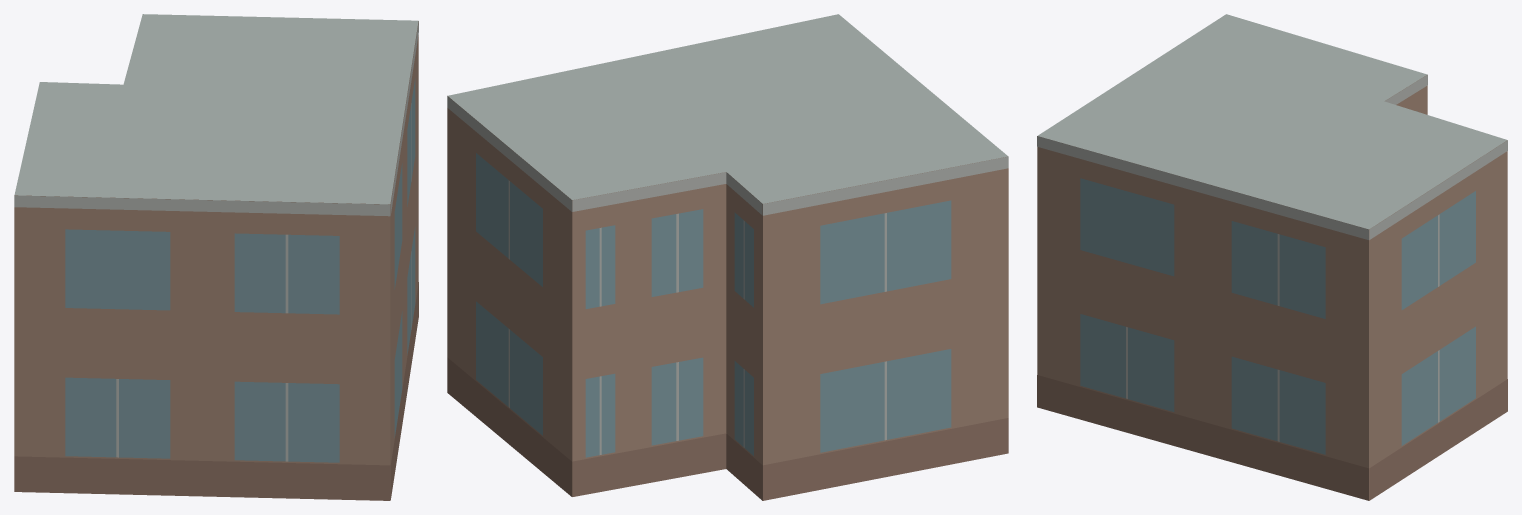
Rendered from survey-upis-32564168.glb.
3 views of the same model, side by side, from view 1: azimuth 30°, elevation 25°; view 2: azimuth 150°, elevation 25°; view 3: azimuth 270°, elevation 25° (orthographic). The views are drawn at different scales.
Visible parts, largest first — view 1: survey-upis-32564168.tmp; view 2: survey-upis-32564168.tmp; view 3: survey-upis-32564168.tmp.
Part boxes in pixels (<box>): survey-upis-32564168.tmp: <box>14,14,418,500</box>; survey-upis-32564168.tmp: <box>447,14,1008,500</box>; survey-upis-32564168.tmp: <box>1037,14,1507,500</box>.
Bounding box in the file's own units: 10.39 × 6.1 × 9.59.
